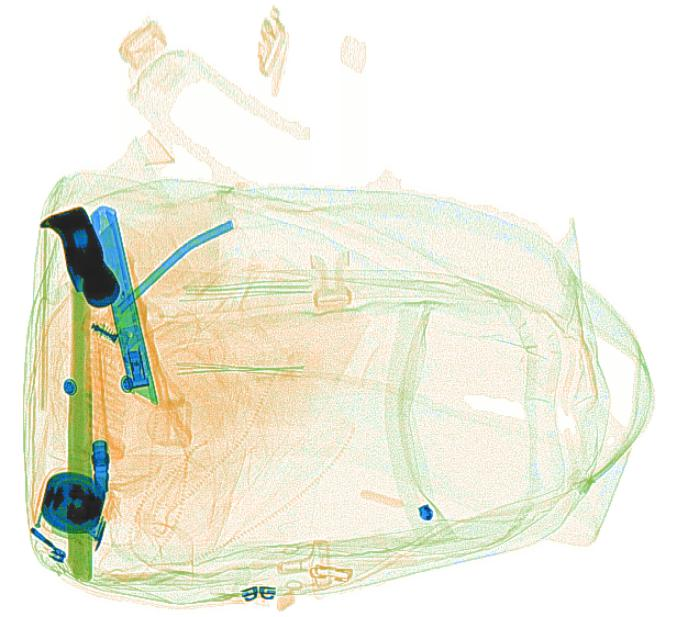knife: (90, 204, 170, 415)
